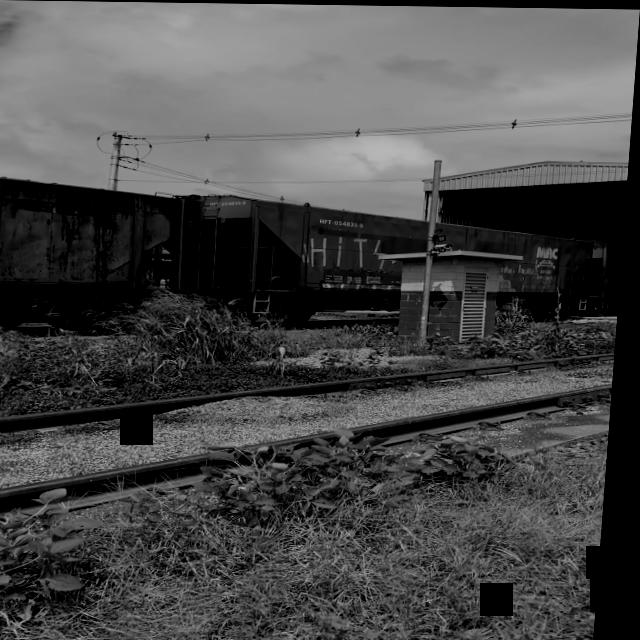hopper: (181, 192, 603, 328), (0, 169, 210, 340), (594, 232, 627, 313)
